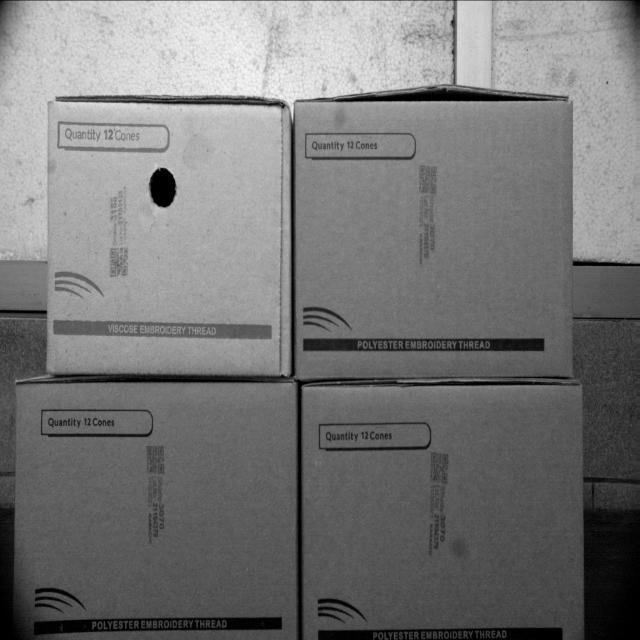box: (292, 100, 576, 383), (9, 380, 302, 640), (298, 383, 590, 639), (40, 91, 294, 380)
